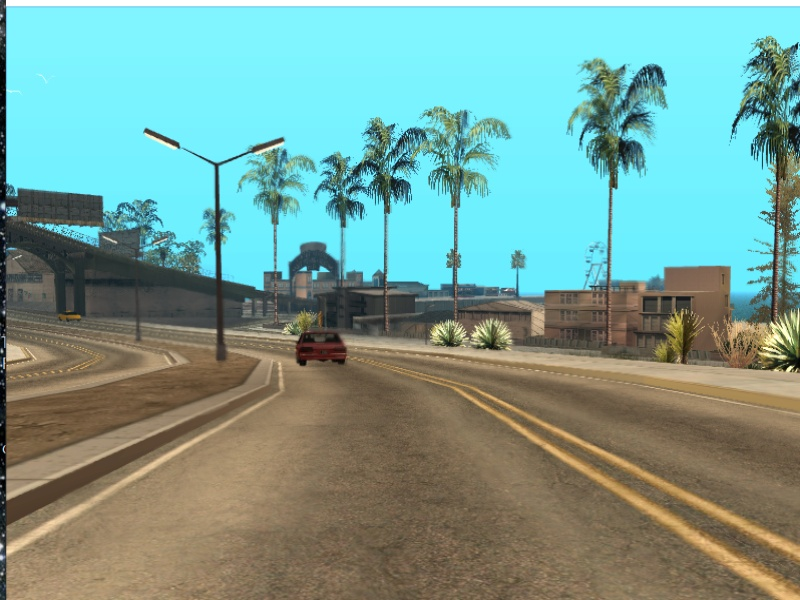pole: (208, 162, 235, 365), (132, 248, 143, 341)
tree: (448, 163, 463, 338), (606, 146, 619, 346), (380, 182, 395, 335), (270, 212, 281, 324)
vehicle: (293, 330, 351, 365), (56, 308, 83, 325)
